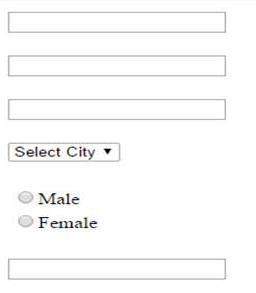field: (7, 53, 226, 78), (5, 10, 228, 34), (5, 97, 226, 121), (7, 258, 227, 280), (8, 141, 122, 163)
radio: (18, 189, 34, 207), (19, 213, 34, 231)
radio_with_label: (16, 211, 96, 232), (14, 187, 80, 209)
